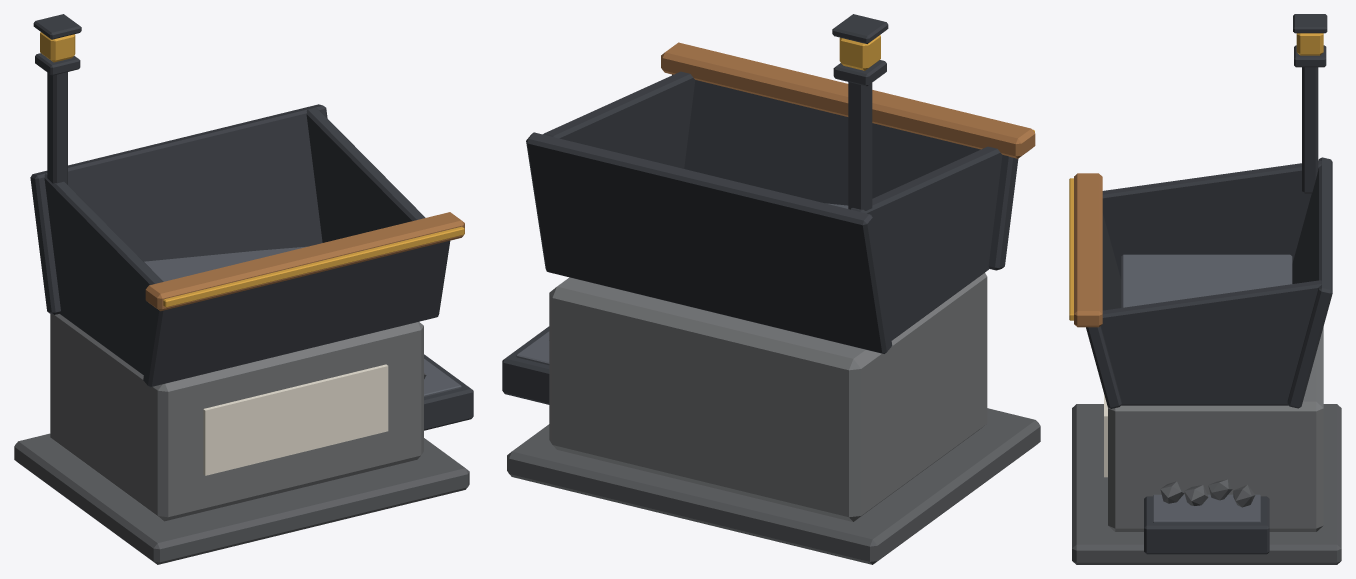
Rendered from Lobby7_SellChute.fbx.
3 renders of one model, left to right at view 1: azimuth 30°, elevation 25°; view 2: azimuth 150°, elevation 25°; view 3: azimuth 270°, elevation 25°, orthographic. The views are drawn at different scales.
Visible parts, largest first — view 1: Charcoal, SlateStone, SlateStoneDark, Plaque, Wood, WarmAmber, CharcoalLight, Lamp; view 2: Charcoal, SlateStone, SlateStoneDark, Wood, Lamp, CharcoalLight; view 3: Charcoal, SlateStone, SlateStoneDark, CharcoalLight, Wood, WarmAmber, Lamp.
Boxes of the visible parts, left/top/right/bottom form: Charcoal: left=30, top=14, right=473, bottom=430; SlateStone: left=50, top=314, right=423, bottom=521; SlateStoneDark: left=14, top=373, right=469, bottom=564; Plaque: left=203, top=364, right=388, bottom=475; Wood: left=145, top=212, right=464, bottom=311; WarmAmber: left=163, top=226, right=464, bottom=307; CharcoalLight: left=144, top=246, right=461, bottom=396; Lamp: left=40, top=32, right=75, bottom=62; Charcoal: left=502, top=14, right=1018, bottom=404; SlateStone: left=549, top=273, right=987, bottom=521; SlateStoneDark: left=507, top=340, right=1040, bottom=564; Wood: left=661, top=42, right=1035, bottom=158; Lamp: left=839, top=35, right=880, bottom=70; CharcoalLight: left=516, top=203, right=848, bottom=365; Charcoal: left=1086, top=14, right=1332, bottom=554; SlateStone: left=1108, top=327, right=1323, bottom=531; SlateStoneDark: left=1072, top=404, right=1341, bottom=564; CharcoalLight: left=1121, top=254, right=1292, bottom=522; Wood: left=1074, top=173, right=1102, bottom=327; WarmAmber: left=1069, top=178, right=1073, bottom=320; Lamp: left=1296, top=33, right=1323, bottom=55.
Bounding box in the file's own units: 4.3 × 5.1 × 3.03.
